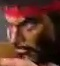ryu: (0, 0, 56, 65)
